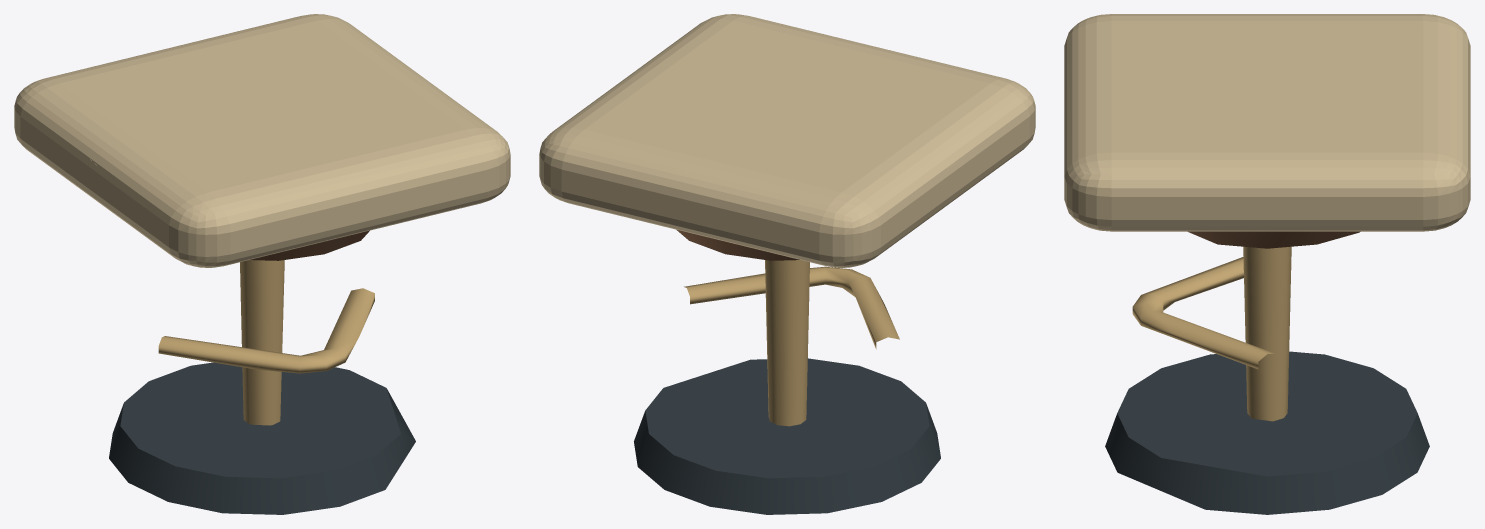
File: chair-6-3.lod.glb
The picture shows the model from 3 angles, left to right: view 1: azimuth 30°, elevation 25°; view 2: azimuth 150°, elevation 25°; view 3: azimuth 270°, elevation 25°; orthographic projection. The views are drawn at different scales.
Visible parts, largest first — view 1: tailored-cushion, part (×3); view 2: tailored-cushion, part (×3); view 3: tailored-cushion, part (×3).
Part boxes in pixels (<box>): tailored-cushion: <box>14,14,510,267</box>; part (×3): <box>109,230,415,514</box>; tailored-cushion: <box>539,14,1035,267</box>; part (×3): <box>634,229,940,514</box>; tailored-cushion: <box>1064,14,1470,231</box>; part (×3): <box>1105,231,1429,514</box>.
Bounding box in the file's own units: 1 × 1 × 1.
